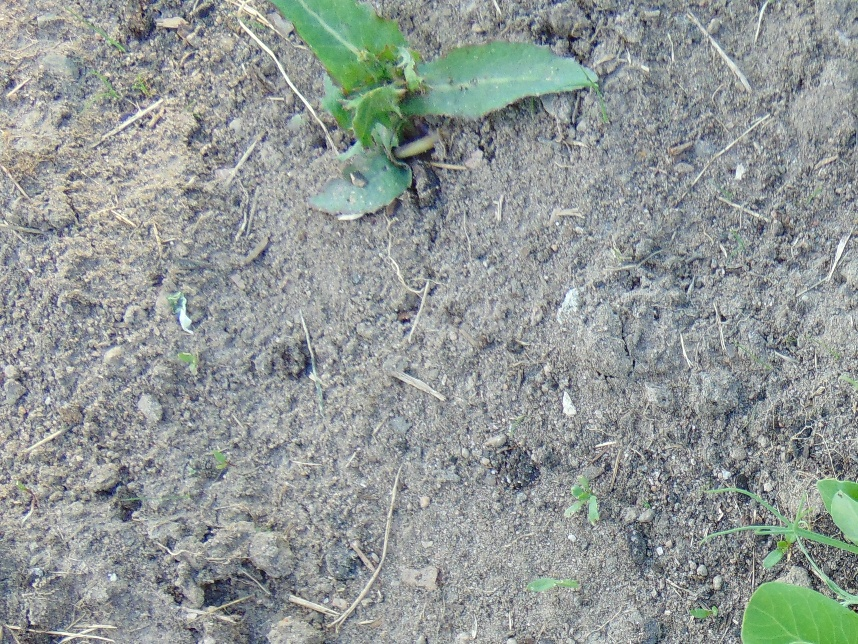crop: (710, 479, 857, 644)
weed: (253, 1, 599, 220), (562, 478, 609, 522), (528, 575, 580, 596)
